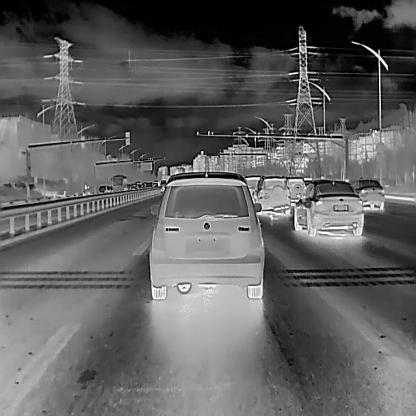bus: (110, 173, 127, 193)
car: (148, 169, 262, 299), (292, 178, 364, 237), (251, 174, 290, 214), (353, 175, 384, 209), (286, 176, 306, 202), (142, 180, 153, 190), (129, 182, 138, 193), (14, 180, 26, 188), (97, 184, 105, 194), (158, 178, 166, 188), (137, 183, 144, 190), (106, 186, 112, 194), (26, 183, 35, 188)
